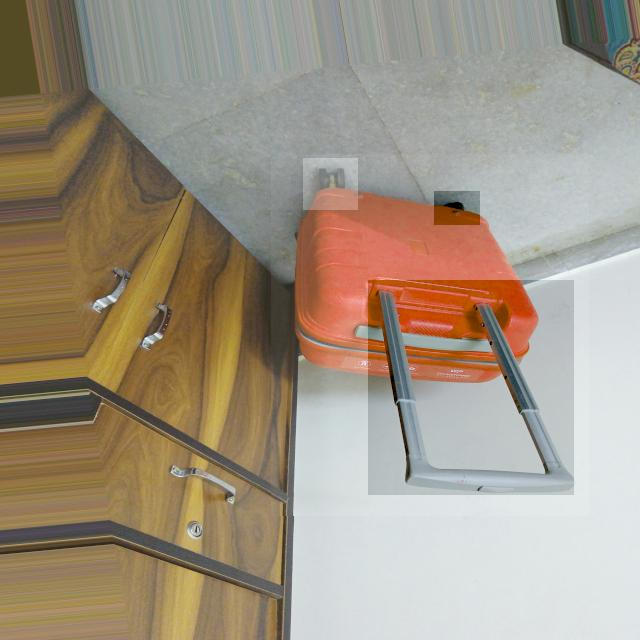Bag: (291, 158, 585, 513)
Handle: (367, 288, 568, 501)
